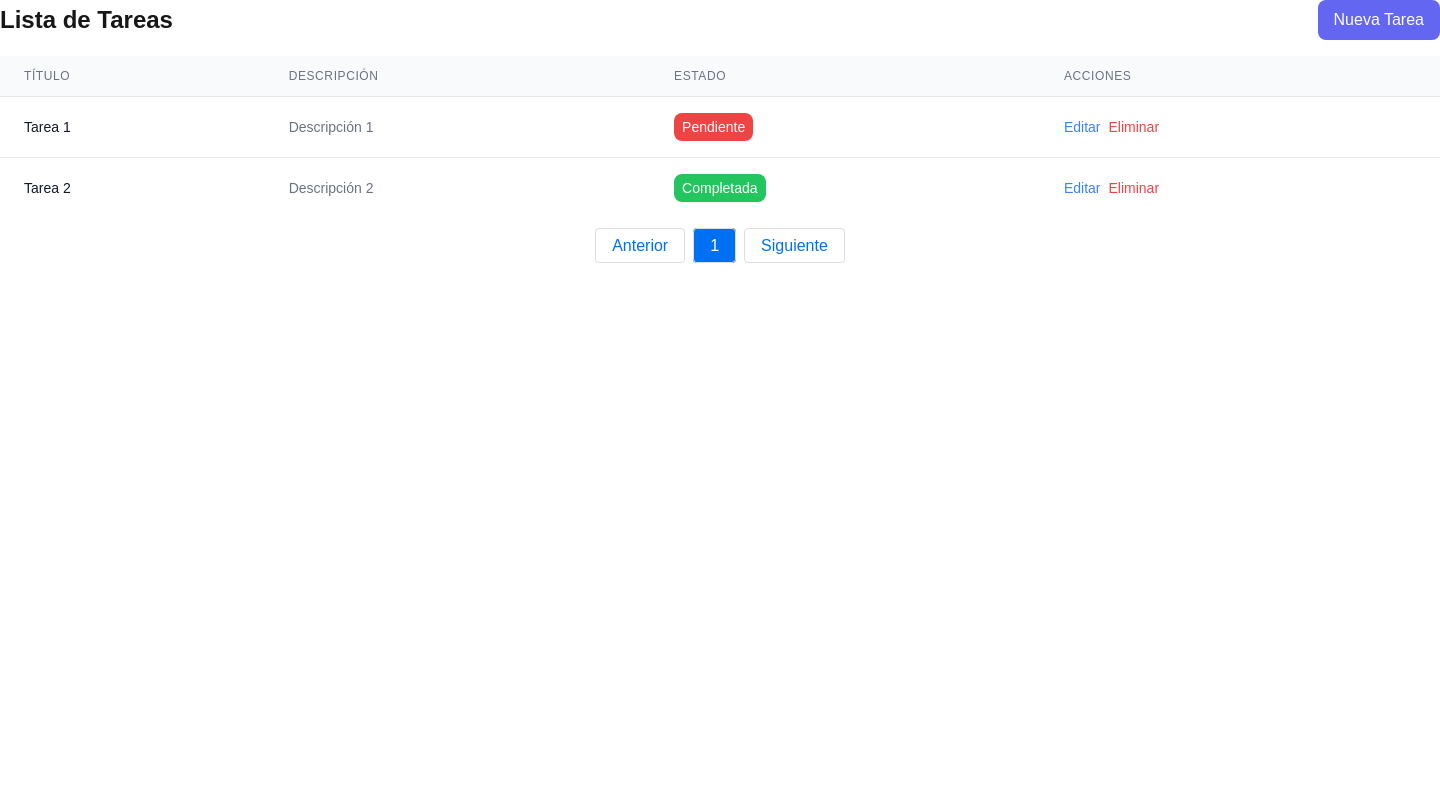
Test: TaskList Component › debería abrir el modal de confirmación al hacer clic en "Eliminar"
Click the button "Eliminar" in the row of "Tarea 1" at [1134, 127], box [1108,117,1159,137]
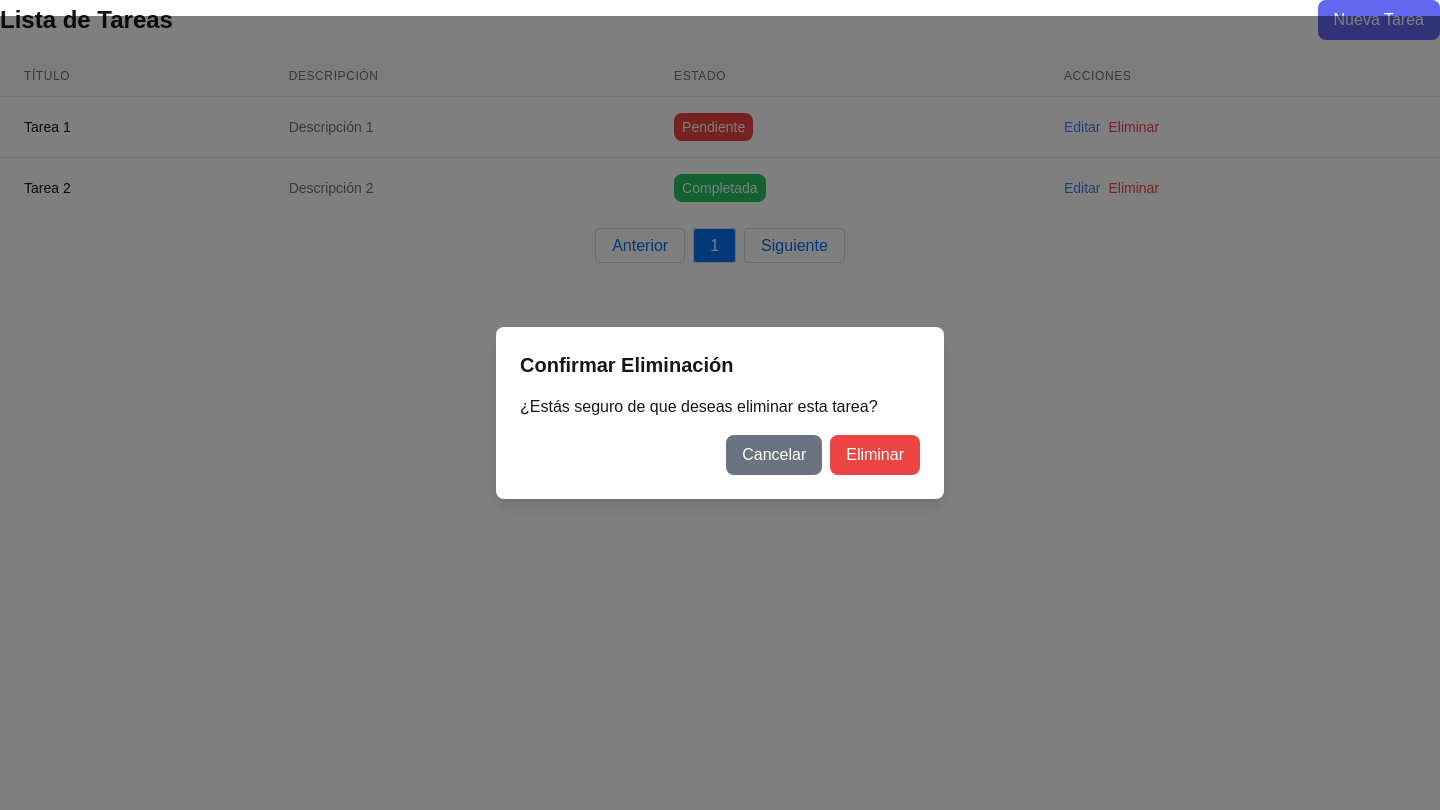
Now the heading "Confirmar Eliminación" is shown, box [520,354,733,376]
